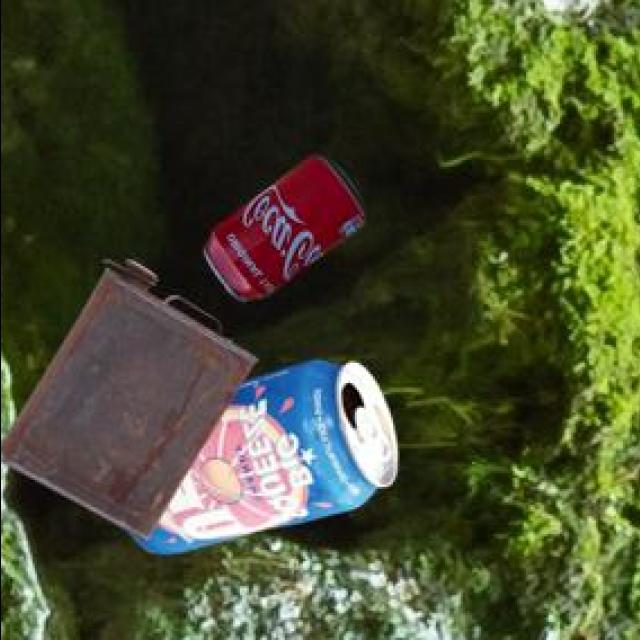logam: (0, 263, 260, 544), (134, 364, 400, 558), (206, 159, 368, 305)
